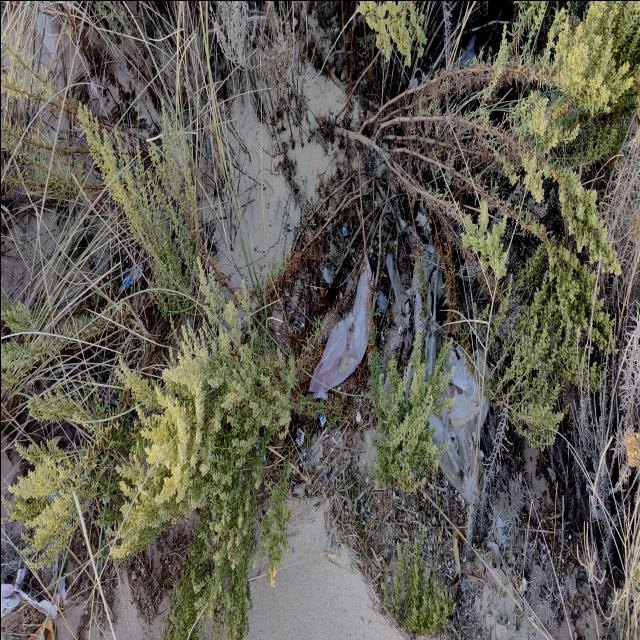Plastic film: (1, 565, 60, 619), (34, 0, 73, 59), (384, 252, 407, 312), (296, 426, 304, 445), (341, 226, 351, 235)
Unlabeled litter: (423, 332, 490, 502), (308, 253, 373, 391), (120, 262, 142, 290), (313, 409, 325, 427), (89, 81, 98, 98)
